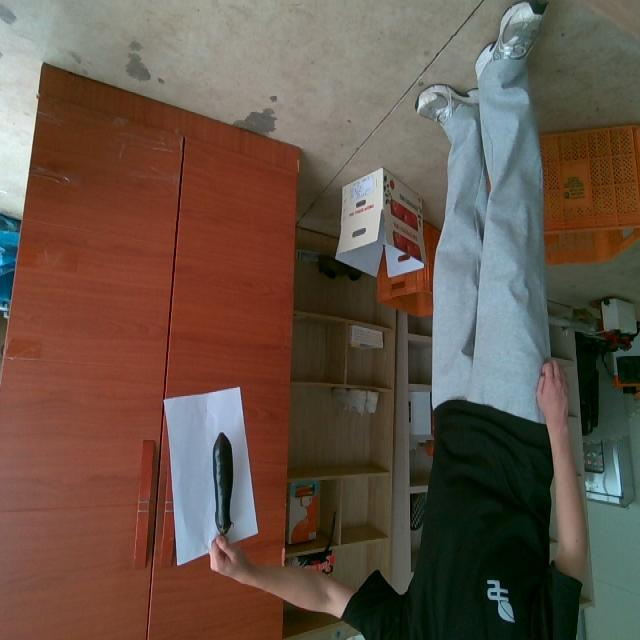Egg plant: (212, 433, 233, 535)
